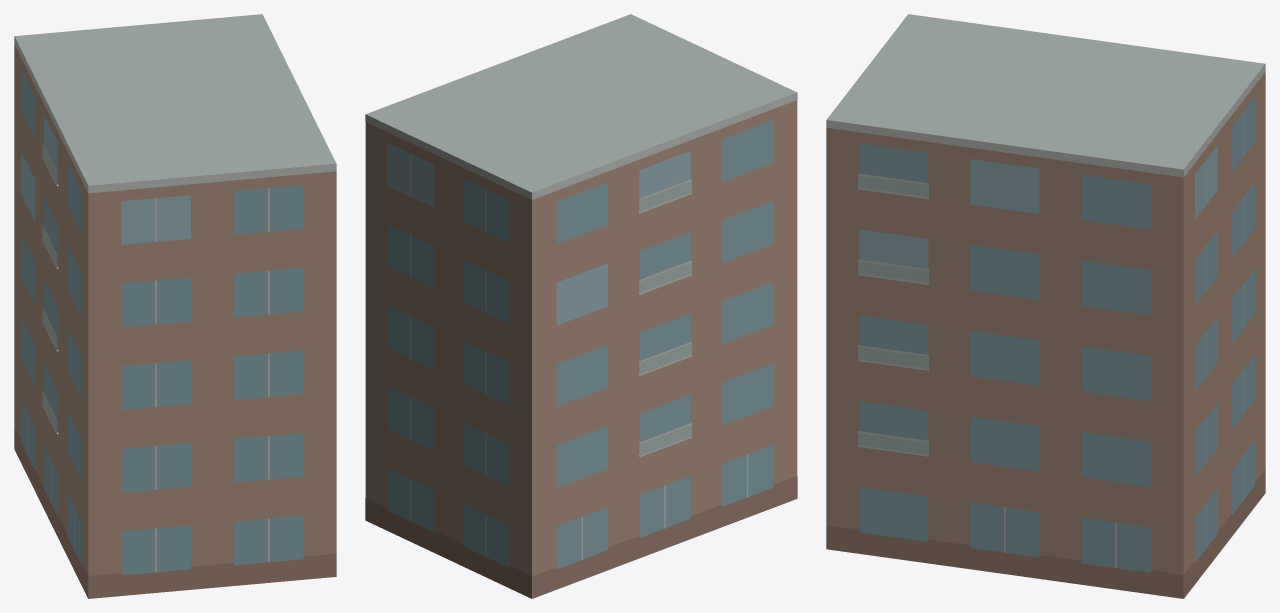
File: survey-upis-33018116.glb
The picture shows the model from 3 angles, left to right: view 1: azimuth 30°, elevation 25°; view 2: azimuth 150°, elevation 25°; view 3: azimuth 270°, elevation 25°; orthographic projection. The views are drawn at different scales.
Visible parts, largest first — view 1: survey-upis-33018116.tmp; view 2: survey-upis-33018116.tmp; view 3: survey-upis-33018116.tmp.
Part boxes in pixels (x1,y1,x2,y2): survey-upis-33018116.tmp: (14, 14, 336, 598); survey-upis-33018116.tmp: (365, 14, 797, 598); survey-upis-33018116.tmp: (826, 14, 1265, 598).
Bounding box in the file's own units: 10.43 × 13.4 × 12.44.
